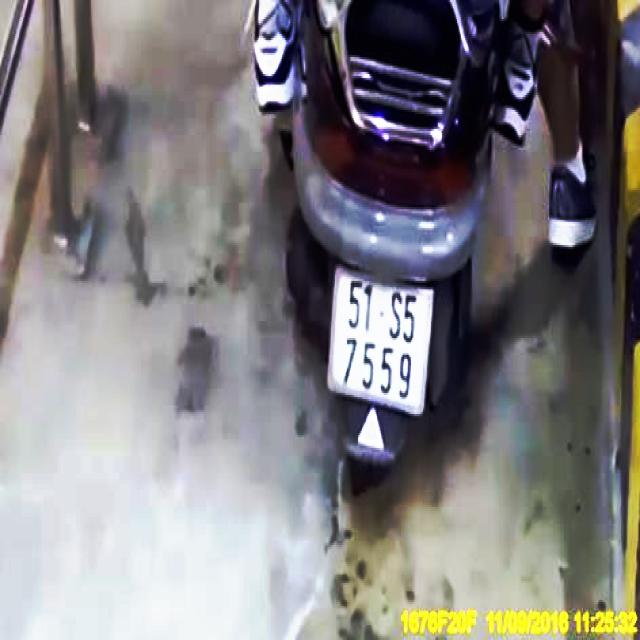license_plate: (330, 271, 431, 415)
